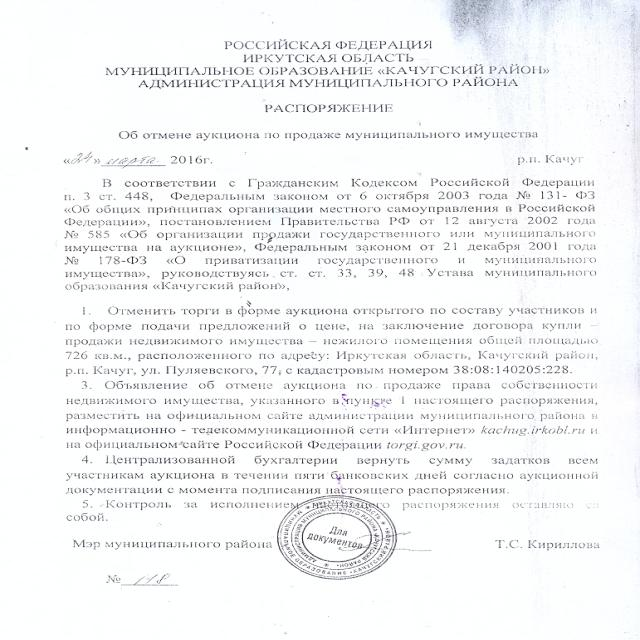stamps: (256, 478, 435, 591)
